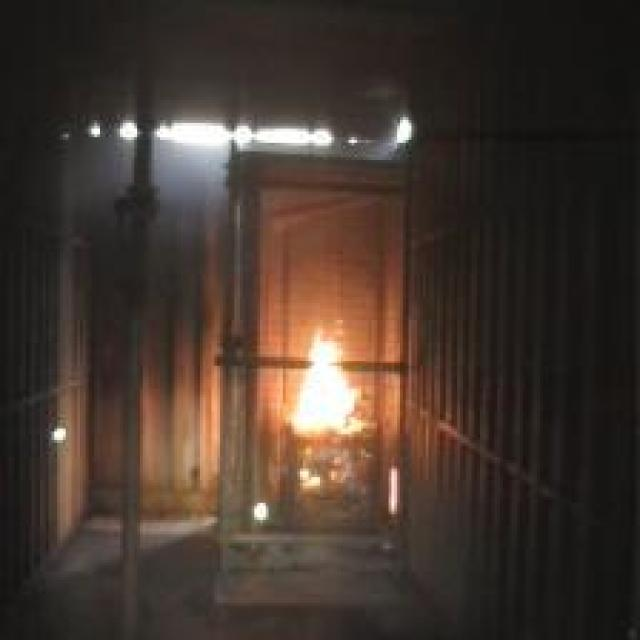fire: (284, 328, 376, 507)
other: (72, 115, 418, 149), (243, 492, 272, 522), (40, 419, 72, 445), (387, 460, 400, 518)
